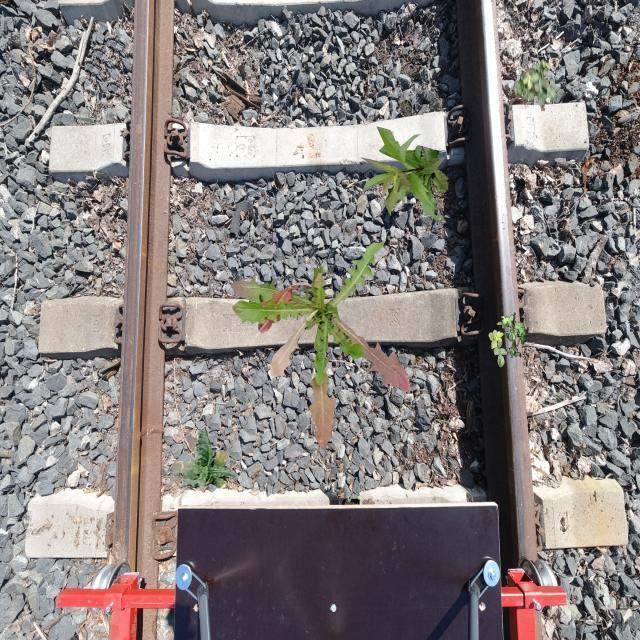Plant: (231, 241, 411, 450), (360, 126, 448, 224), (171, 427, 234, 489), (514, 58, 558, 108), (489, 313, 526, 368)
